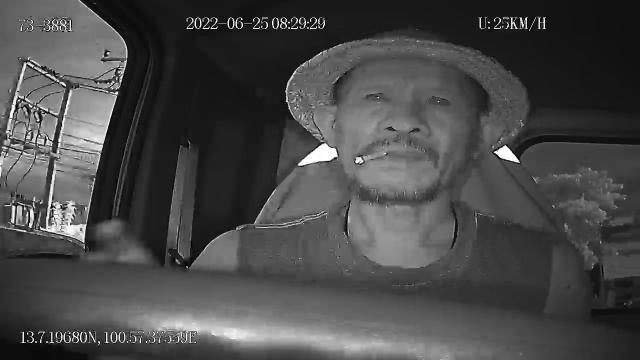SafeDriving: (358, 80, 394, 109), (420, 88, 458, 112)
Smoking: (354, 149, 388, 165)
